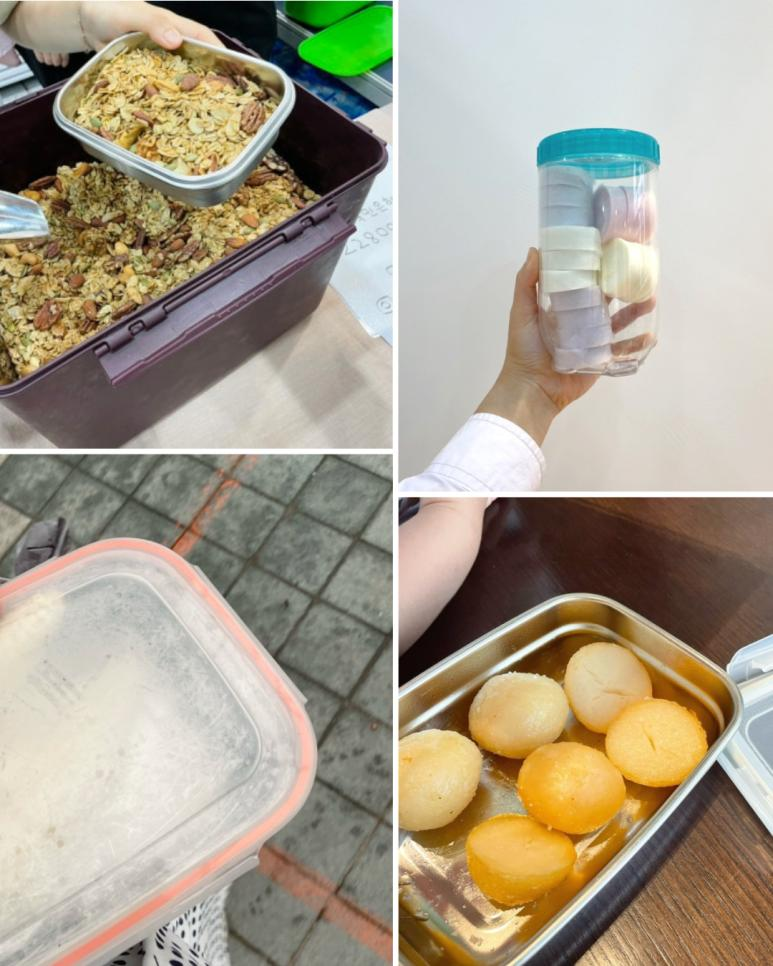Lunch Box: (0, 85, 385, 447), (398, 594, 772, 965), (55, 32, 294, 205)
